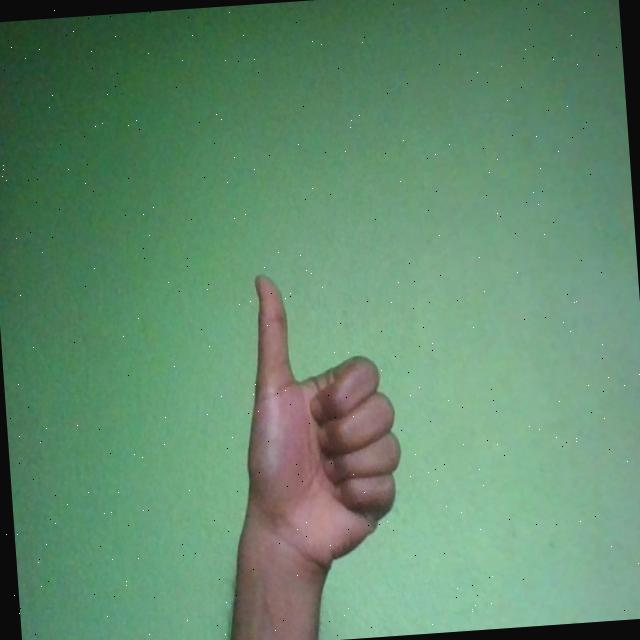Good Job: (234, 264, 410, 583)
